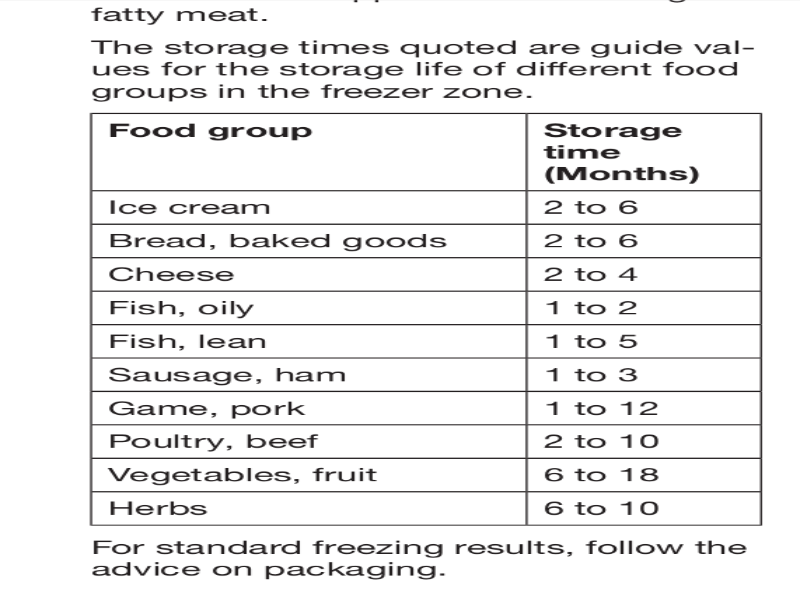border: (77, 107, 780, 538)
cell: (538, 120, 705, 186), (101, 461, 385, 486), (104, 231, 451, 251), (101, 361, 355, 386), (99, 395, 353, 420), (99, 428, 353, 453), (102, 119, 318, 145), (101, 328, 271, 353), (105, 262, 260, 287), (103, 294, 258, 319), (103, 197, 274, 218), (534, 195, 654, 219), (532, 227, 652, 251), (535, 262, 655, 286), (534, 296, 654, 320), (533, 329, 653, 353), (533, 362, 653, 386), (541, 395, 661, 419), (540, 429, 660, 453), (542, 462, 662, 486), (541, 495, 661, 519), (105, 497, 211, 521)
